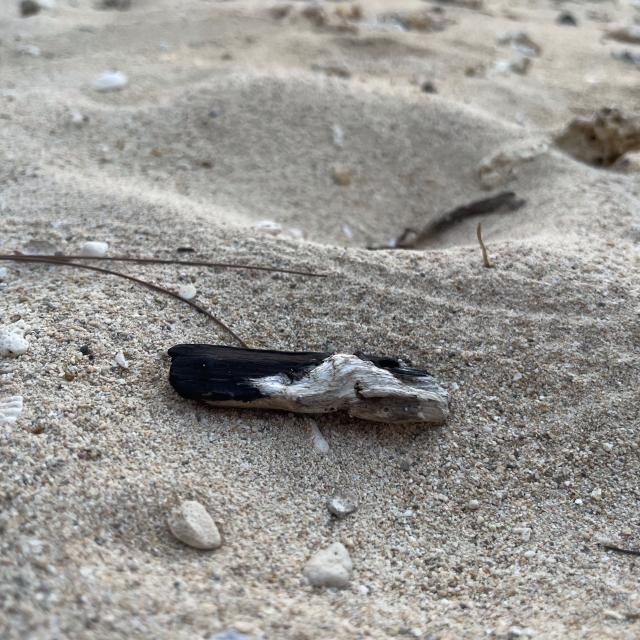charcoal: (95, 303, 457, 434)
